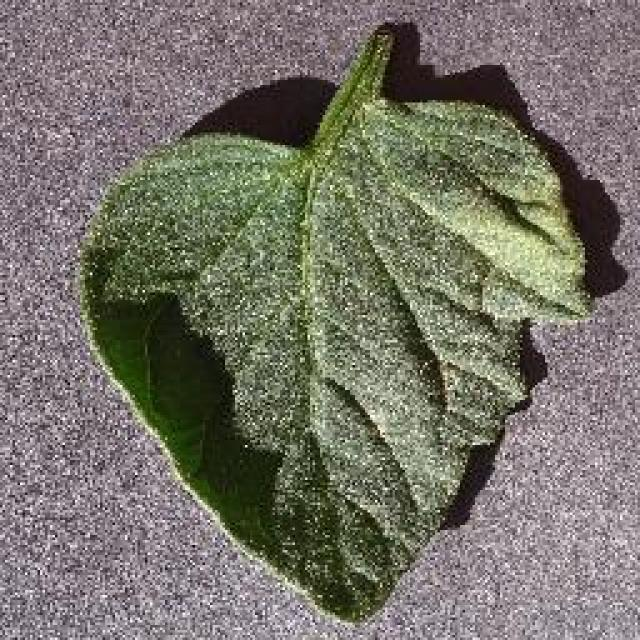Tomato___healthy: (73, 25, 599, 630)
